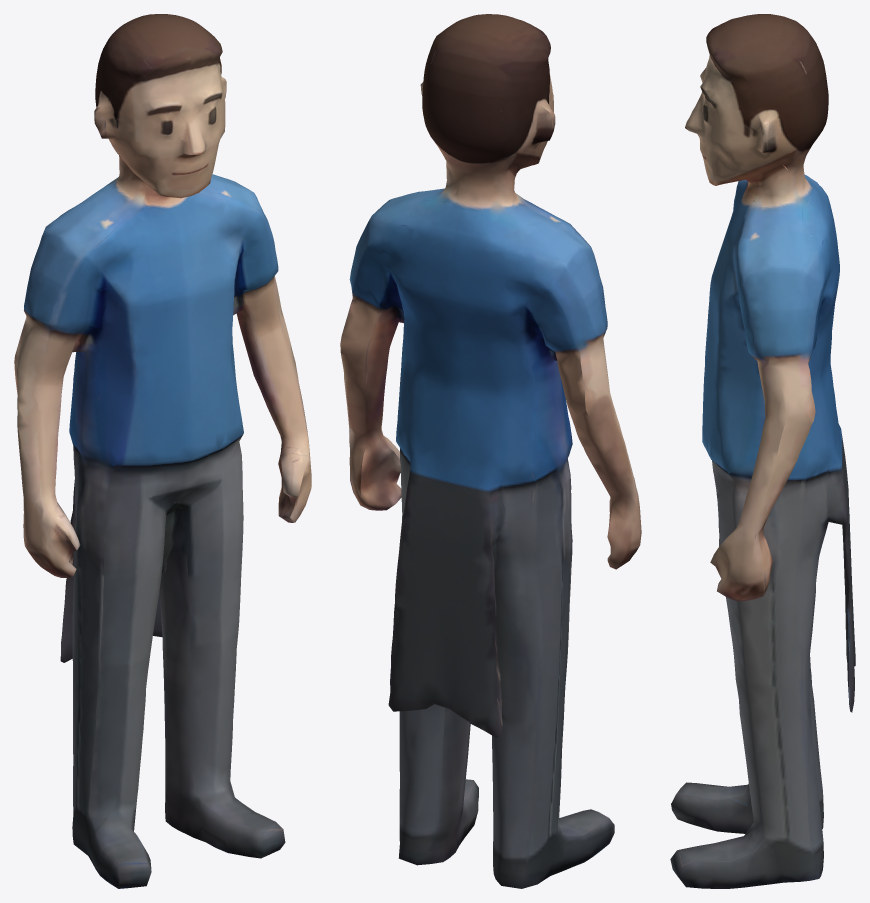
Rendered from customer.glb.
3 views of the same model, side by side, from view 1: azimuth 30°, elevation 25°; view 2: azimuth 150°, elevation 25°; view 3: azimuth 270°, elevation 25° (orthographic).
Visible parts, largest first — view 1: HumanFigure; view 2: HumanFigure; view 3: HumanFigure.
Boxes of the visible parts, x1,y1,x2,y2 form: HumanFigure: (14,14,311,888); HumanFigure: (340,14,641,888); HumanFigure: (670,14,855,888).
Size of the model in its own units: 0.6498 by 1.8 by 0.3642.
Materials: 1 (1 with a texture image).
